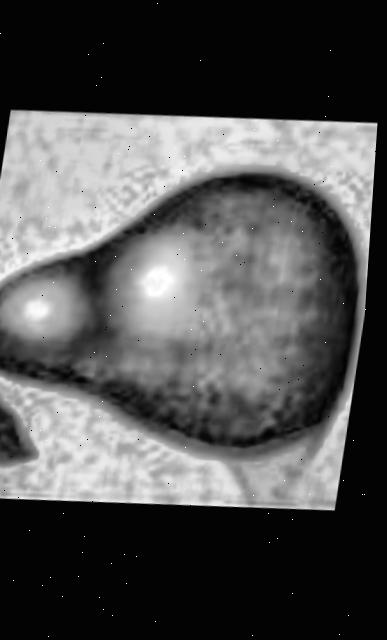La Pera: (0, 96, 381, 529)
